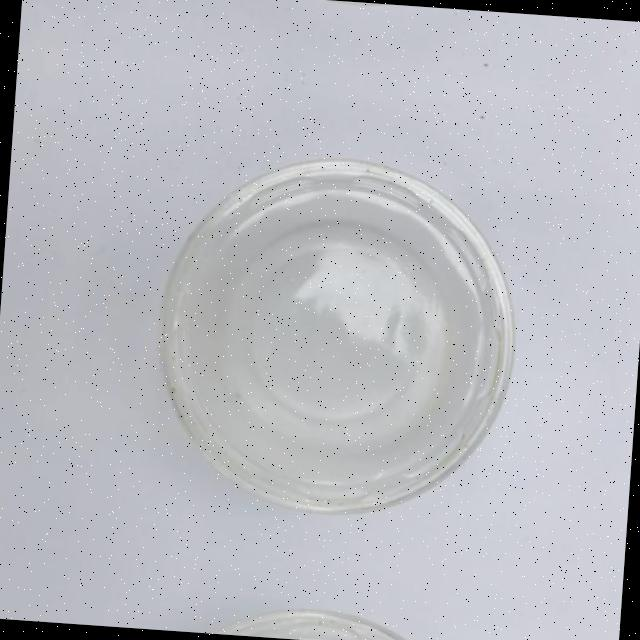Plastic: (126, 123, 544, 522), (117, 599, 510, 640), (160, 0, 553, 37)
